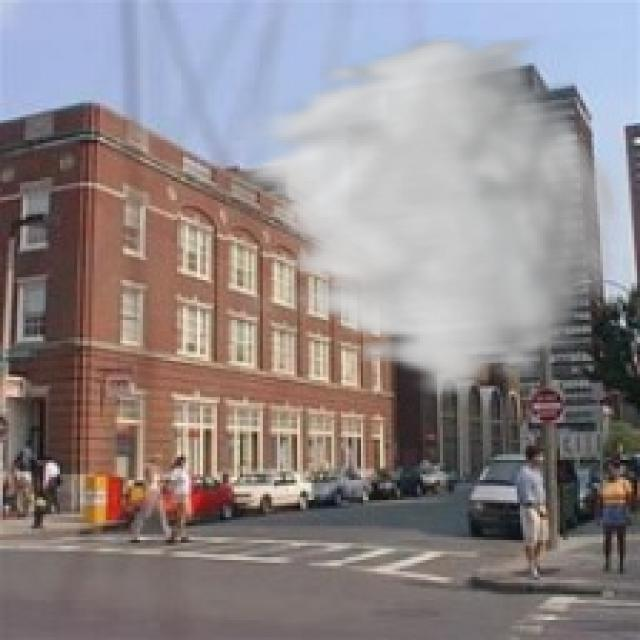Smoke: (228, 31, 628, 403)
